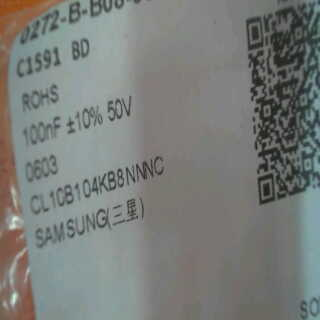100nF: (19, 112, 63, 148)
